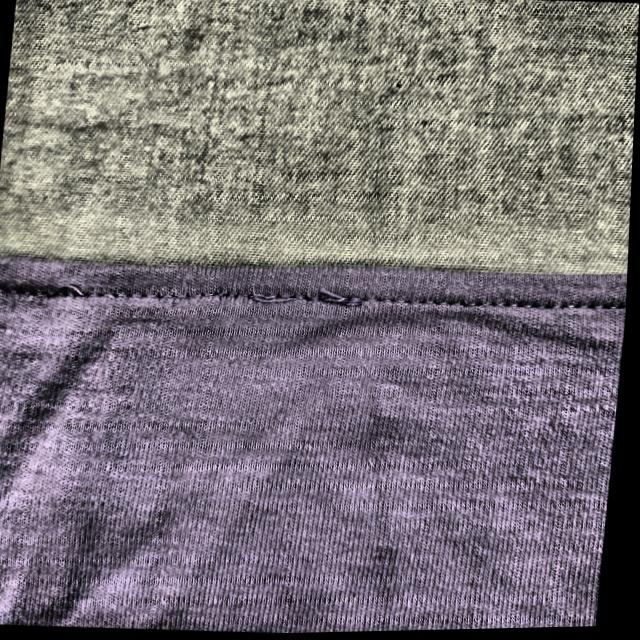Stitch: (252, 278, 385, 314), (41, 277, 104, 306)
